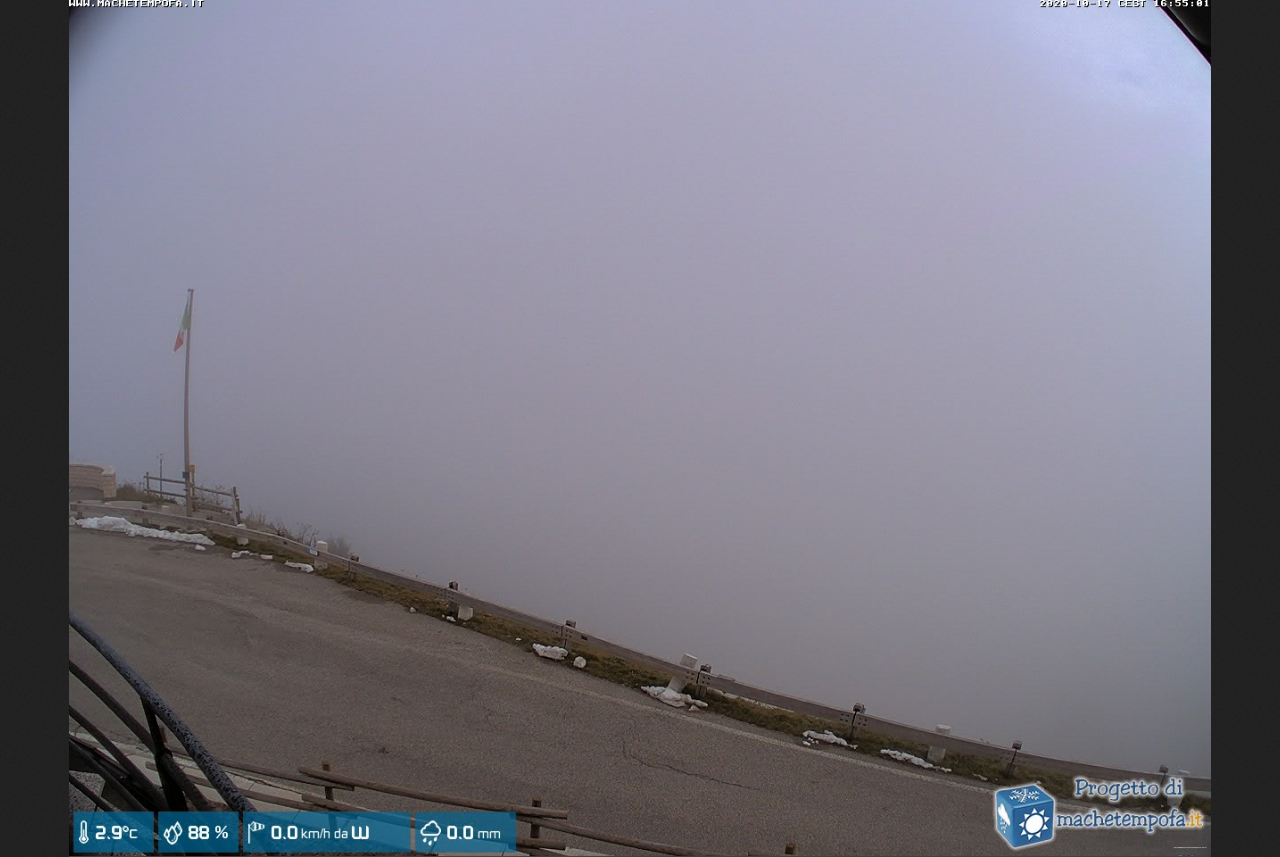no: (167, 283, 198, 358)
